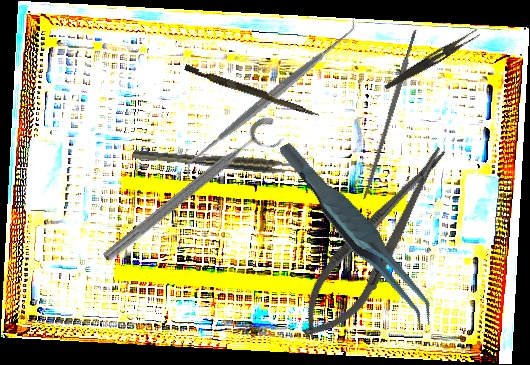Dressing Forceps: (383, 25, 481, 95)
Fixation Ring: (98, 112, 290, 276)
Needle Holder: (285, 133, 466, 353)
Pusher: (182, 64, 322, 118)
Scalpel Handle: (361, 28, 420, 201)
Spatula Surgical: (173, 16, 367, 180)
Tissue Forceps: (277, 119, 439, 350), (132, 144, 308, 178)
